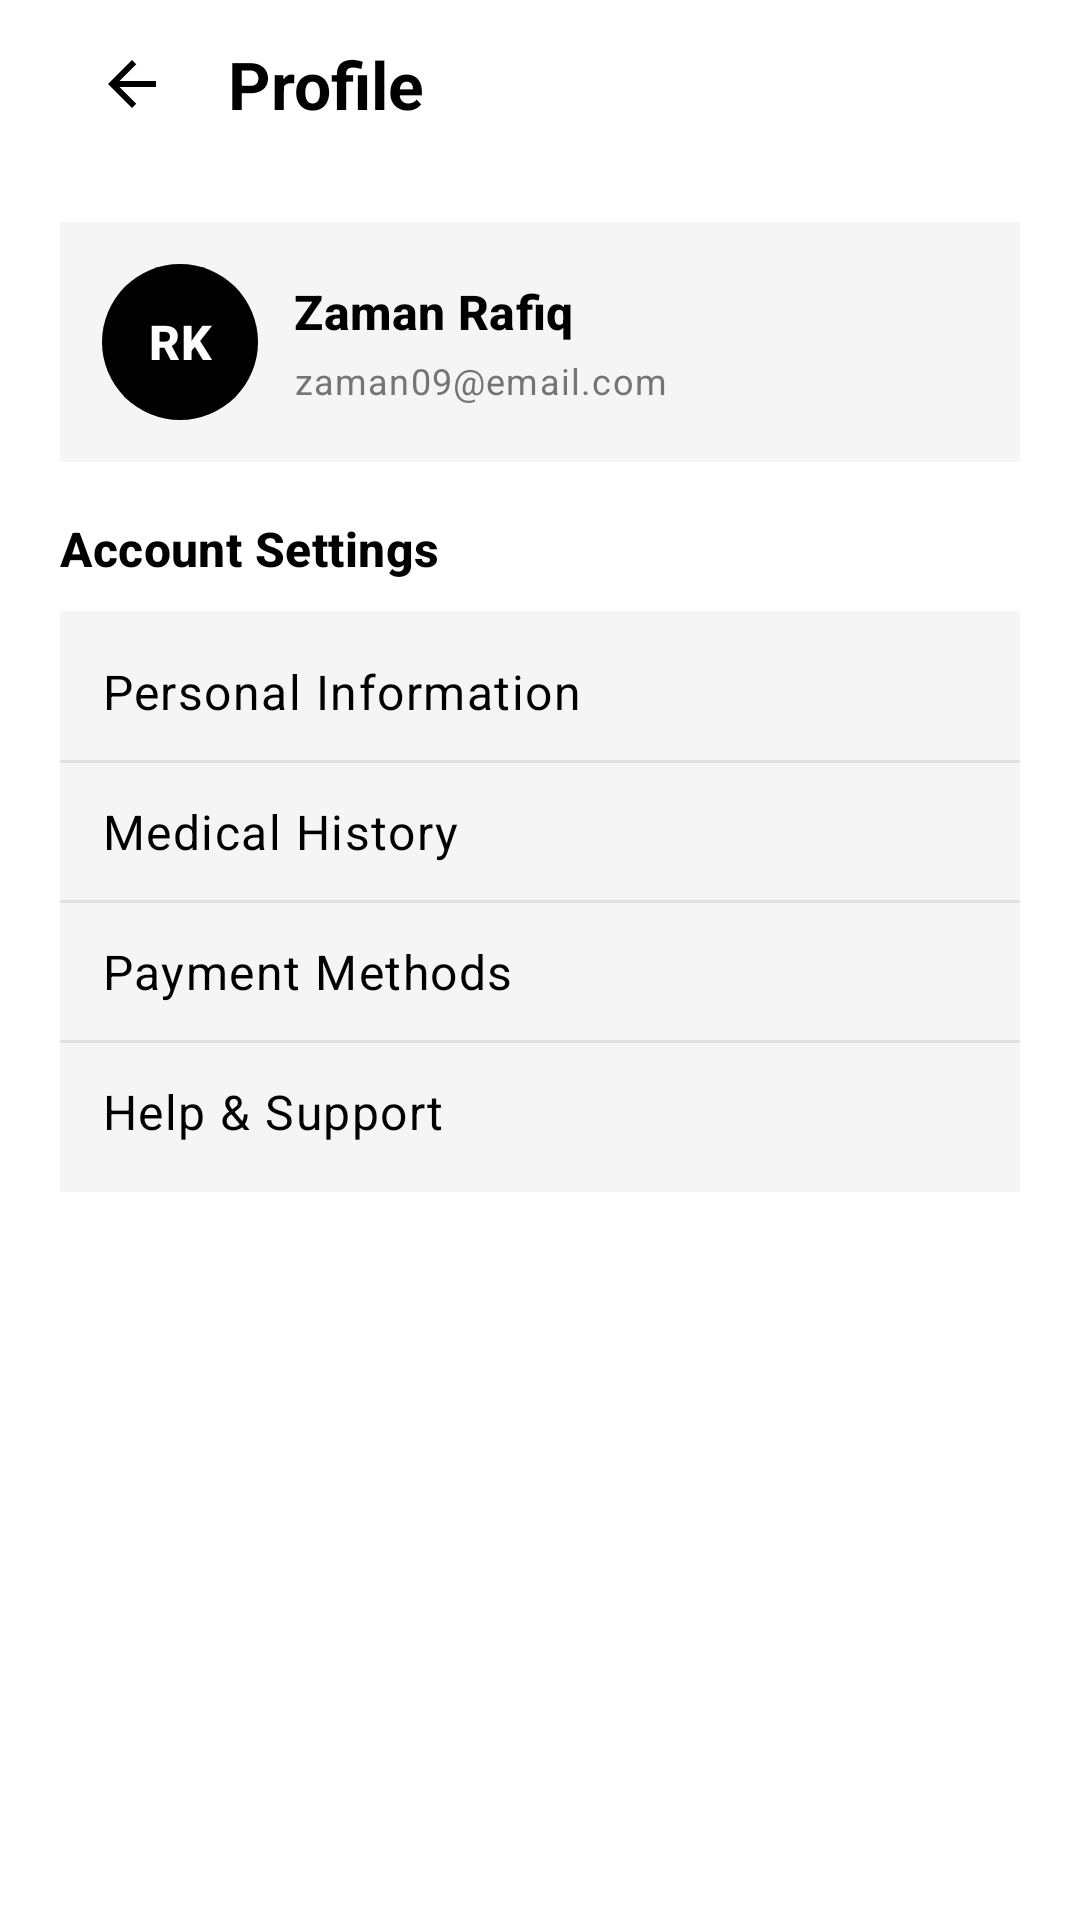

Point at icon controls on the screen. Image size 1080×1920, points as [x,y].
Back: [132,84]
